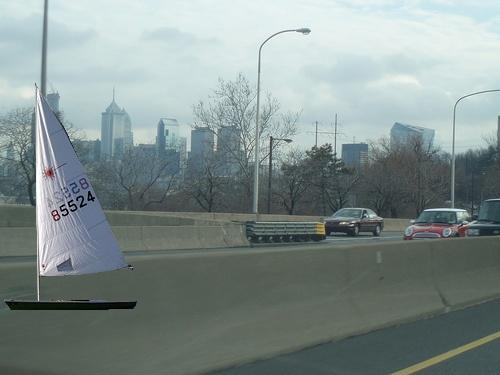tampered: (5, 84, 137, 310)
